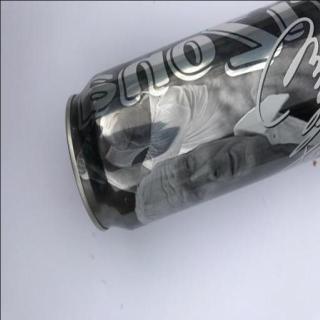Anorganik: (59, 0, 320, 241)
